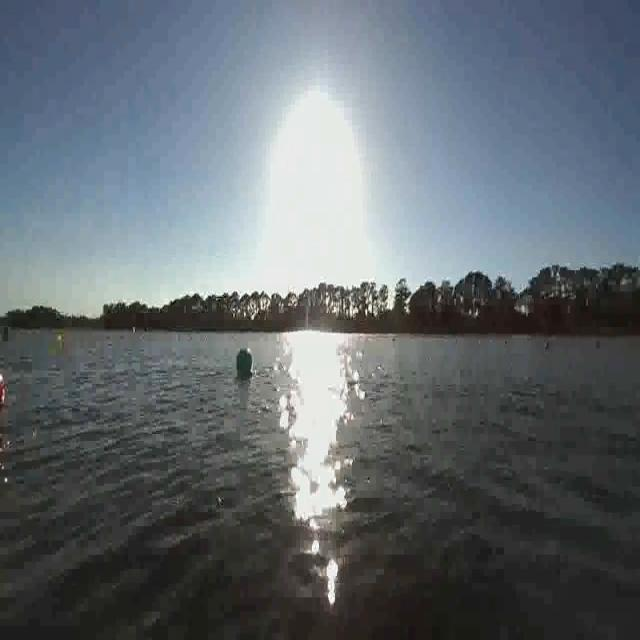green-buoy: (234, 349, 250, 374)
